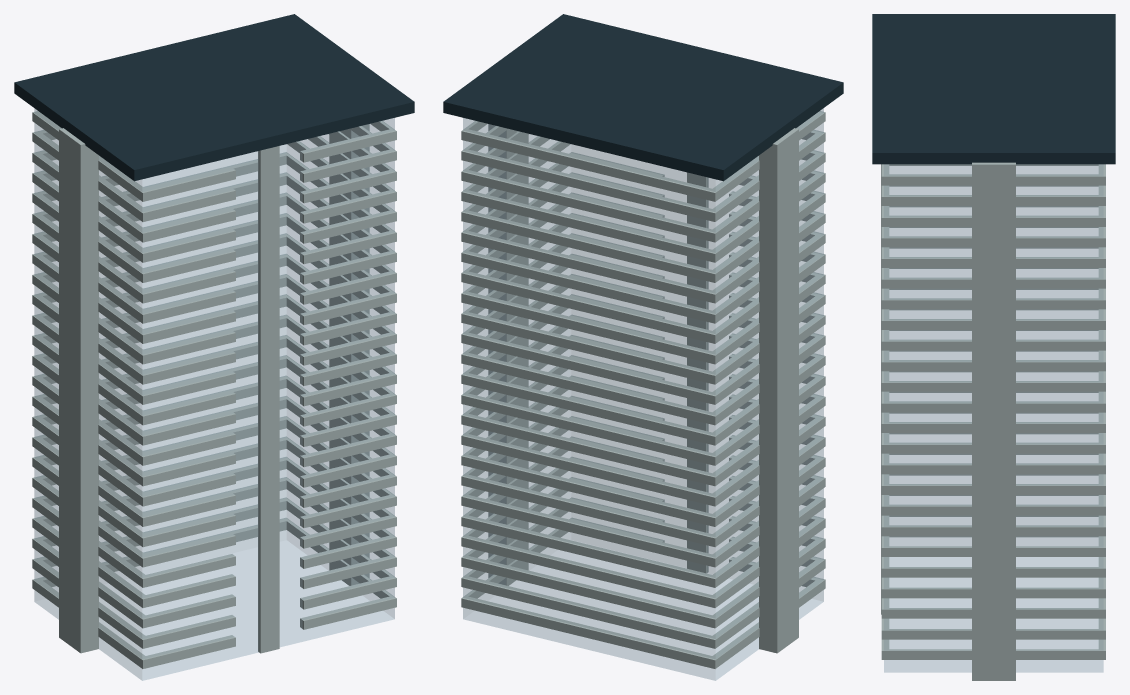
Rendered from 小型居民楼.glb.
3 renders of one model, left to right at view 1: azimuth 30°, elevation 25°; view 2: azimuth 150°, elevation 25°; view 3: azimuth 270°, elevation 25°, orthographic.
Parts seen in each view (by area): view 1: 立方体1432, 玻璃210, 立方体1433, 立方体1434, 立方体1436, 立方体1435; view 2: 立方体1432, 玻璃210, 立方体1433, 立方体1434, 立方体1436, 立方体1435; view 3: 立方体1432, 玻璃210, 立方体1433, 立方体1435, 立方体1436.
Part boxes in pixels (box(x1,y1,x2,y2)): 立方体1432: box(32, 111, 396, 668); 玻璃210: box(34, 108, 394, 680); 立方体1433: box(14, 14, 414, 181); 立方体1434: box(59, 128, 98, 653); 立方体1436: box(258, 146, 279, 653); 立方体1435: box(329, 124, 369, 585); 立方体1432: box(461, 111, 825, 668); 玻璃210: box(463, 108, 823, 680); 立方体1433: box(443, 14, 843, 181); 立方体1434: box(759, 128, 798, 653); 立方体1436: box(687, 172, 708, 573); 立方体1435: box(488, 124, 528, 585); 立方体1432: box(881, 164, 1105, 659); 玻璃210: box(884, 164, 1103, 672); 立方体1433: box(872, 14, 1115, 164); 立方体1435: box(972, 162, 1015, 680); 立方体1436: box(881, 164, 881, 614).
Bounding box in the file's own units: 54.24 × 93.04 × 39.02.
